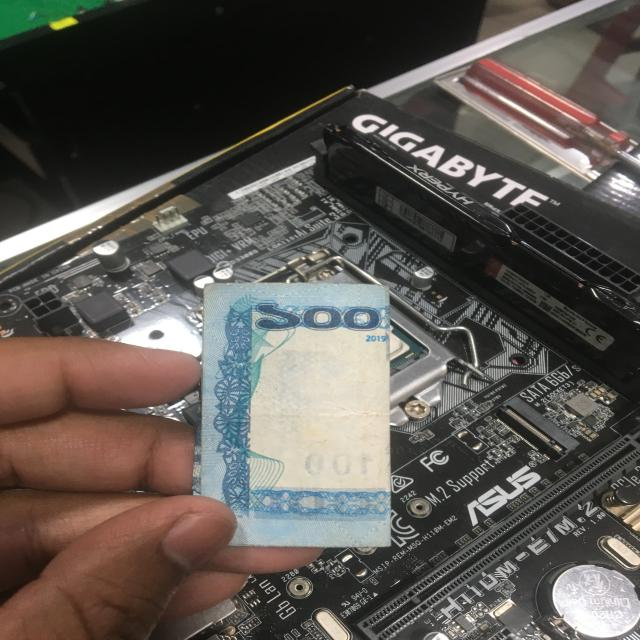Taka: (199, 281, 389, 542)
